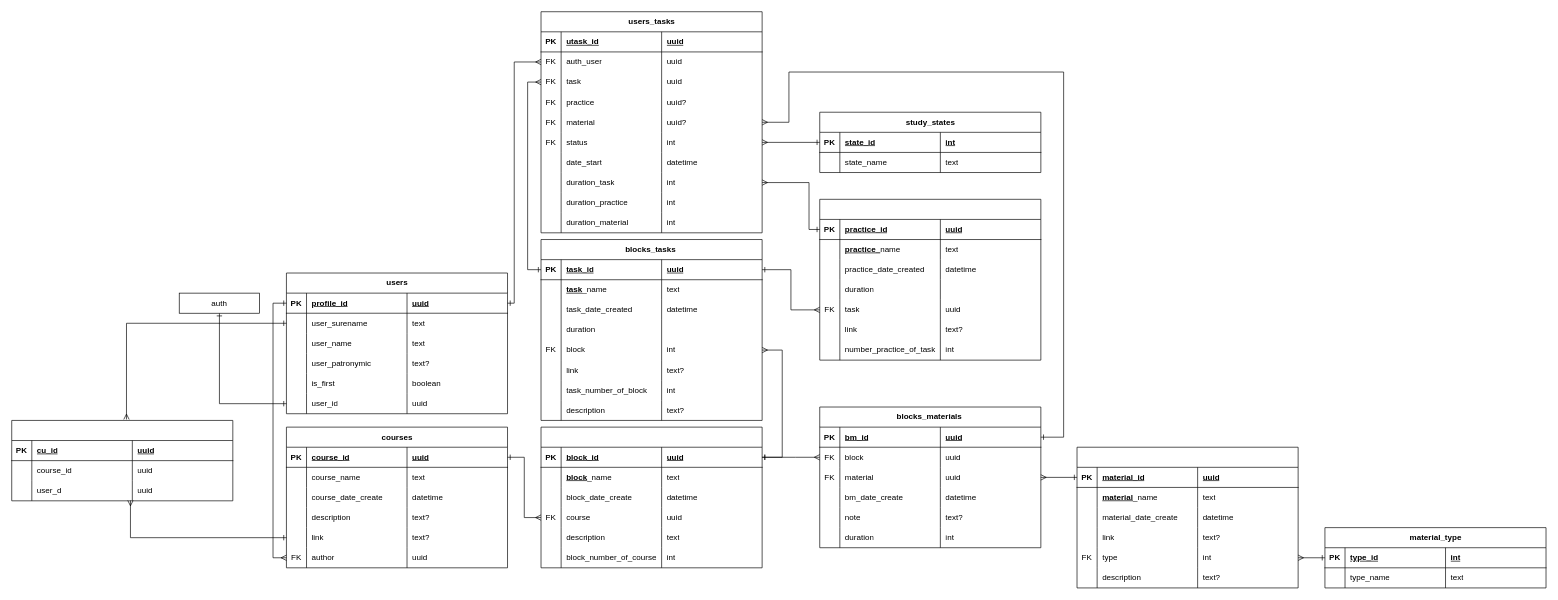
Some shapes in this 1558 by 600 pixel diagram are drawn without their labels. The box of each missing label's shape, as (x1, y1, x2, y2) in pixels:
courses_blocks: (540, 426, 762, 568)
materials: (1076, 447, 1298, 588)
tasks_practice: (819, 199, 1041, 360)
users_courses: (11, 420, 233, 501)
